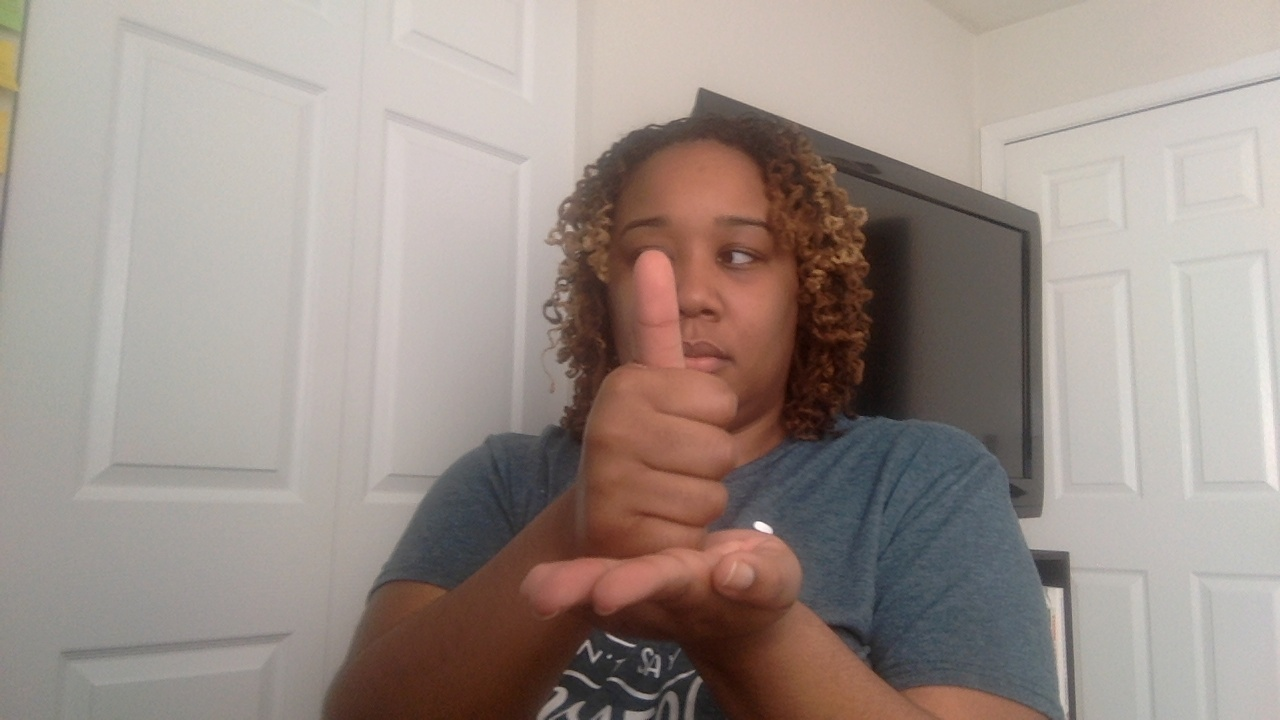help: (446, 250, 809, 717)
